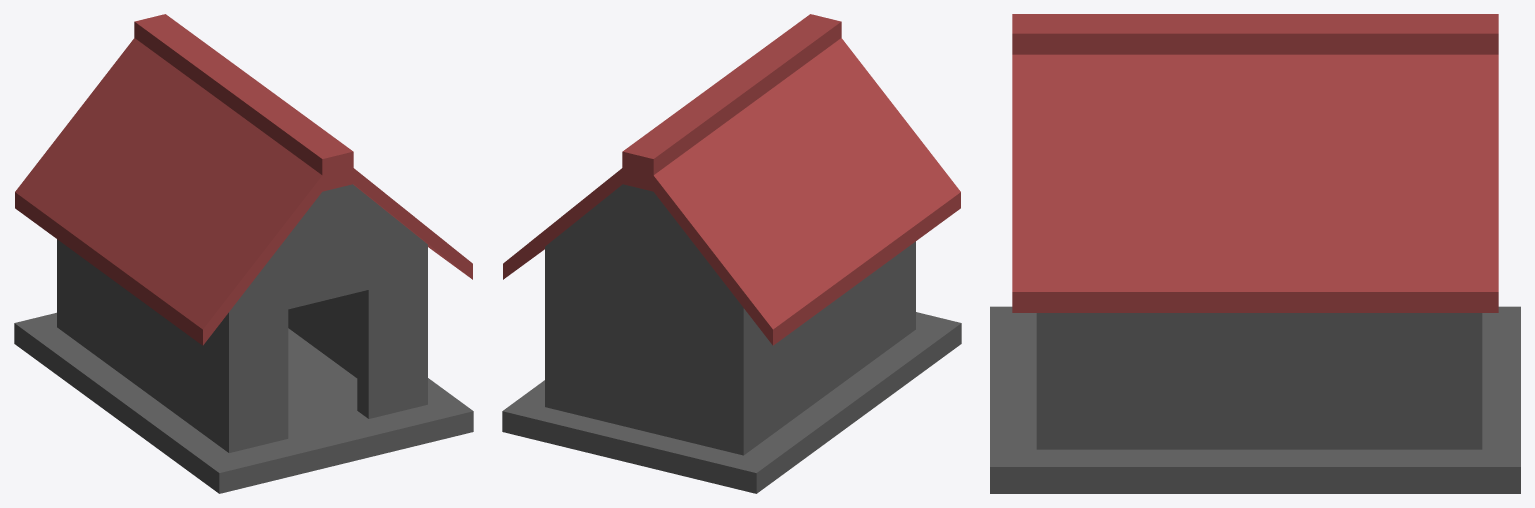
File: Cabaña 3.fbx
3 renders of one model, left to right at view 1: azimuth 30°, elevation 25°; view 2: azimuth 150°, elevation 25°; view 3: azimuth 270°, elevation 25°, orthographic. The views are drawn at different scales.
Visible parts, largest first — view 1: pCube4, pCube2; view 2: pCube4, pCube2; view 3: pCube2, pCube4.
Part boxes in pixels (bbox=[...]): pCube4: bbox=[14, 184, 473, 493]; pCube2: bbox=[15, 14, 472, 345]; pCube4: bbox=[502, 184, 961, 493]; pCube2: bbox=[503, 14, 960, 345]; pCube2: bbox=[1012, 14, 1498, 312]; pCube4: bbox=[990, 306, 1520, 493].
Size of the model in its own units: 13.58 by 14.48 by 17.86.
